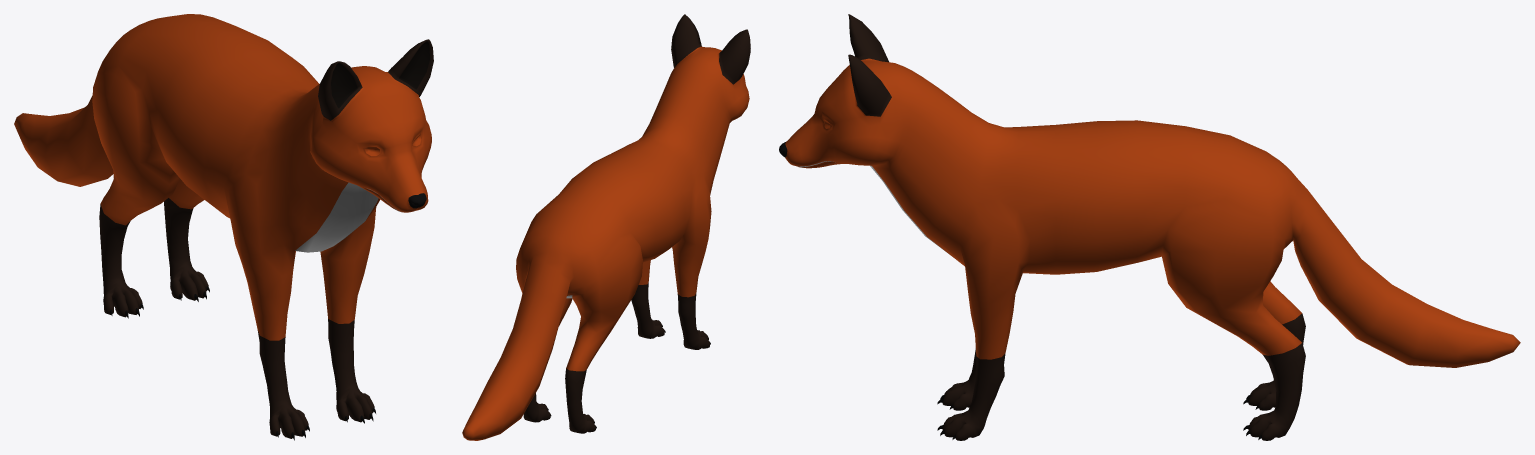
File: fox_fox.obj
3 renders of one model, left to right at view 1: azimuth 30°, elevation 25°; view 2: azimuth 150°, elevation 25°; view 3: azimuth 270°, elevation 25°, orthographic. The views are drawn at different scales.
Visible parts, largest first — view 1: fox; view 2: fox; view 3: fox.
Part boxes in pixels (x1=…): fox: x1=14, y1=14, x2=433, y2=440; fox: x1=462, y1=14, x2=750, y2=440; fox: x1=779, y1=14, x2=1520, y2=440.
Bounding box in the file's own units: 0.2749 × 0.729 × 1.27.
